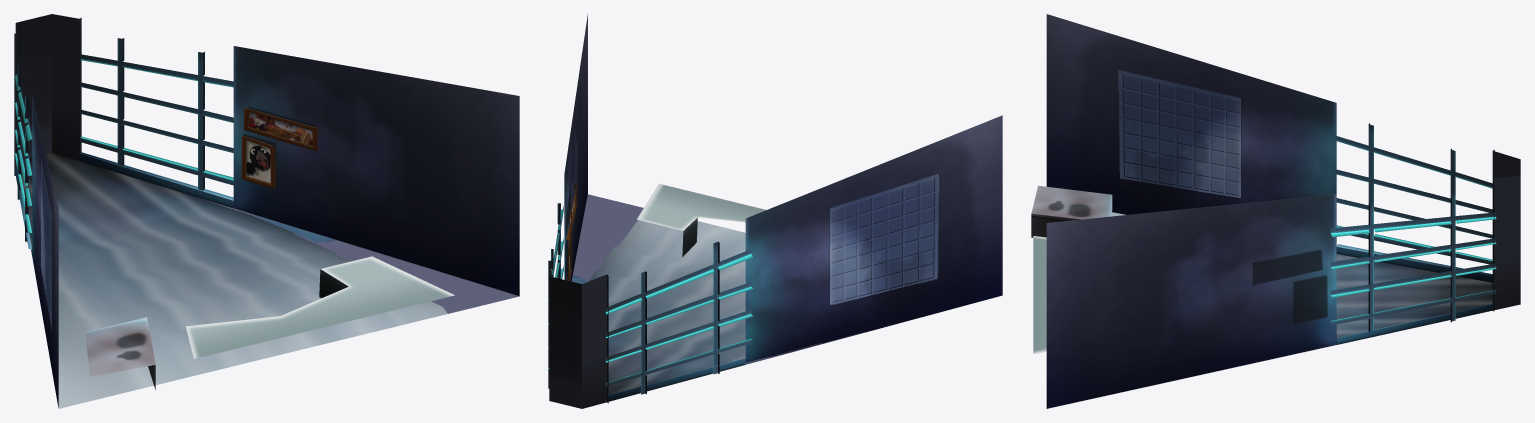
Rendered from room-lowpoly.dae.
The picture shows the model from 3 angles, left to right: view 1: azimuth 30°, elevation 25°; view 2: azimuth 150°, elevation 25°; view 3: azimuth 270°, elevation 25°; orthographic projection. The views are drawn at different scales.
Visible parts, largest first — view 1: wall, Front, pictures, table; view 2: wall, Front; view 3: wall, table, Front.
Boxes of the visible parts, x1=… form: wall: x1=14, y1=14, x2=519, y2=408; Front: x1=186, y1=256, x2=454, y2=358; pictures: x1=241, y1=107, x2=317, y2=188; table: x1=85, y1=317, x2=155, y2=389; wall: x1=548, y1=14, x2=1002, y2=408; Front: x1=637, y1=183, x2=766, y2=257; wall: x1=1046, y1=14, x2=1520, y2=408; table: x1=1031, y1=185, x2=1112, y2=237; Front: x1=1033, y1=236, x2=1046, y2=354.
Size of the model in its own units: 38 by 15.96 by 37.61.
Materials: 3 (3 with a texture image).
